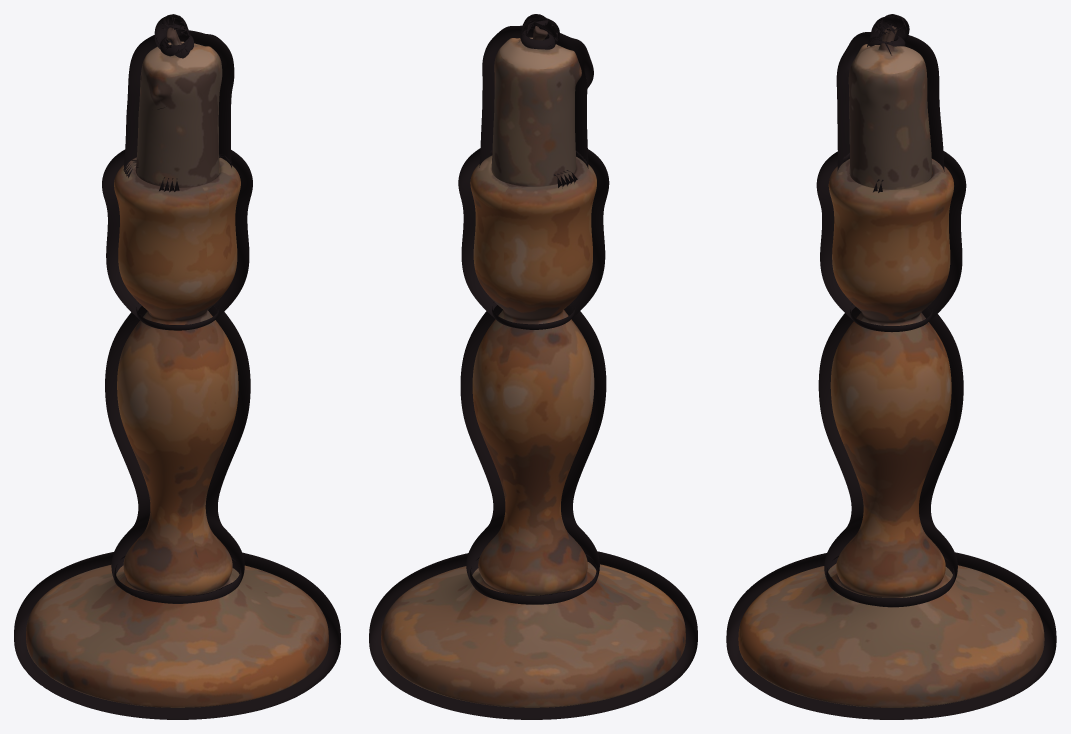
The model's file is SM_Int_Candlestick.fbx.
3 renders of one model, left to right at view 1: azimuth 30°, elevation 25°; view 2: azimuth 150°, elevation 25°; view 3: azimuth 270°, elevation 25°, orthographic.
Visible parts, largest first — view 1: SM_Int_Candlestick; view 2: SM_Int_Candlestick; view 3: SM_Int_Candlestick.
Boxes of the visible parts, x1,y1,x2,y2 form: SM_Int_Candlestick: (14, 14, 340, 719); SM_Int_Candlestick: (369, 14, 697, 719); SM_Int_Candlestick: (726, 14, 1056, 719).
Bounding box in the file's own units: 0.105 × 0.2274 × 0.1065.
